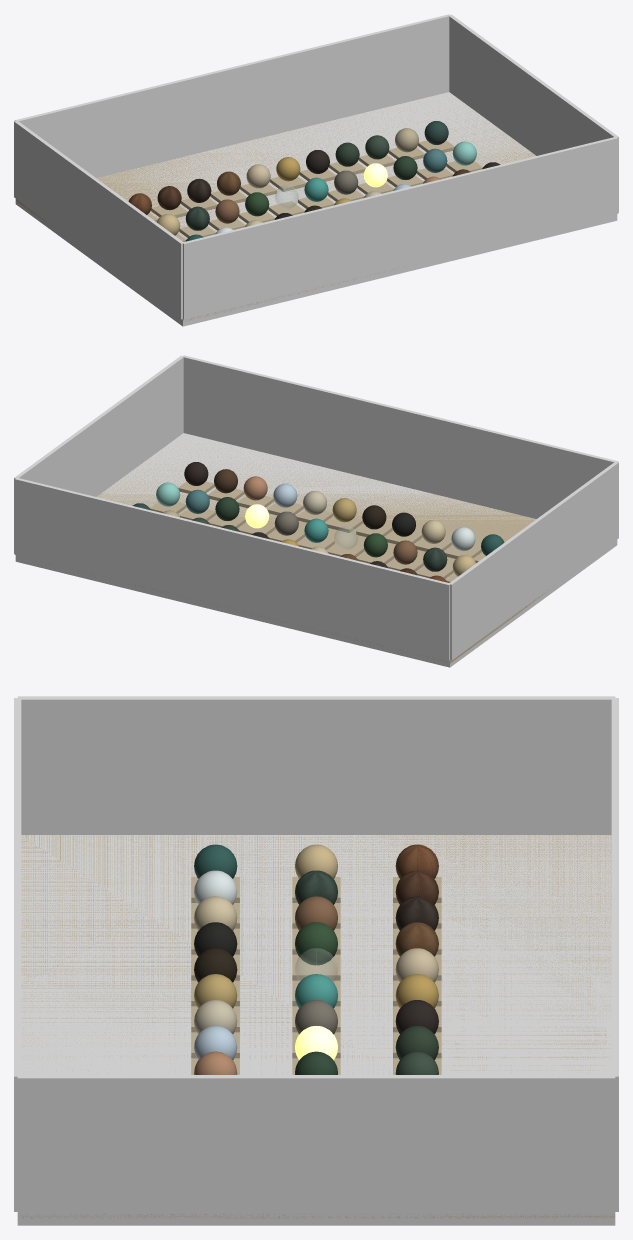
Rendered from materials.glb.
3 views of the same model, one above another, from view 1: azimuth 30°, elevation 25°; view 2: azimuth 150°, elevation 25°; view 3: azimuth 270°, elevation 25° (orthographic). The views are drawn at different scales.
Parts seen in each view (by area): view 1: COL_edge.003, COL_edge.002, COL_floor, COL_edge, COL_edge.001, VIS_CAL_material_floor, VIS_sample_M14, VIS_sample_M05, VIS_sample_M09, VIS_sample_M06, VIS_sample_M08, VIS_sample_M10 (+14 smaller); view 2: COL_edge.002, COL_edge.003, COL_floor, COL_edge, VIS_CAL_material_floor, COL_edge.001, VIS_sample_M14, VIS_sample_M27, VIS_sample_M31, VIS_sample_M13, VIS_sample_M17, VIS_sample_M28 (+14 smaller); view 3: COL_floor, COL_edge.001, COL_edge, VIS_CAL_material_floor, COL_edge.002, COL_edge.003, VIS_sample_M15, VIS_sample_M04, VIS_sample_M26, VIS_sample_M14, VIS_sample_M03, VIS_sample_M05 (+22 smaller).
Boxes of the visible parts, left/top/right/bottom form: COL_edge.003: left=182, top=137, right=618, bottom=319; COL_edge.002: left=14, top=14, right=449, bottom=177; COL_floor: left=15, top=92, right=617, bottom=326; COL_edge: left=14, top=120, right=183, bottom=319; COL_edge.001: left=449, top=14, right=618, bottom=212; VIS_CAL_material_floor: left=16, top=94, right=535, bottom=321; VIS_sample_M14: left=215, top=199, right=239, bottom=223; VIS_sample_M05: left=246, top=164, right=270, bottom=188; VIS_sample_M09: left=365, top=135, right=389, bottom=159; VIS_sample_M06: left=276, top=157, right=300, bottom=181; VIS_sample_M08: left=335, top=142, right=359, bottom=166; VIS_sample_M10: left=395, top=128, right=418, bottom=152; COL_edge.002: left=14, top=478, right=450, bottom=660; COL_edge.003: left=182, top=355, right=618, bottom=518; COL_floor: left=15, top=433, right=617, bottom=667; COL_edge: left=448, top=461, right=618, bottom=660; VIS_CAL_material_floor: left=48, top=433, right=554, bottom=663; COL_edge.001: left=14, top=355, right=184, bottom=553; VIS_sample_M14: left=393, top=540, right=417, bottom=564; VIS_sample_M27: left=362, top=505, right=386, bottom=529; VIS_sample_M31: left=243, top=476, right=267, bottom=500; VIS_sample_M13: left=423, top=547, right=447, bottom=571; VIS_sample_M17: left=304, top=518, right=328, bottom=542; VIS_sample_M28: left=332, top=498, right=356, bottom=522; COL_floor: left=17, top=835, right=615, bottom=1225; COL_edge.001: left=17, top=1075, right=615, bottom=1213; COL_edge: left=17, top=696, right=615, bottom=834; VIS_CAL_material_floor: left=19, top=835, right=614, bottom=1218; COL_edge.002: left=611, top=698, right=618, bottom=1211; COL_edge.003: left=14, top=698, right=21, bottom=1211; VIS_sample_M15: left=295, top=922, right=337, bottom=965; VIS_sample_M04: left=395, top=922, right=438, bottom=956; VIS_sample_M26: left=194, top=922, right=237, bottom=956; VIS_sample_M14: left=295, top=896, right=337, bottom=930; VIS_sample_M03: left=395, top=896, right=438, bottom=930; VIS_sample_M05: left=395, top=948, right=438, bottom=982.
Bounding box in the file's own units: 12.1 × 2.2 × 8.1.
33 materials, 15 textured.
